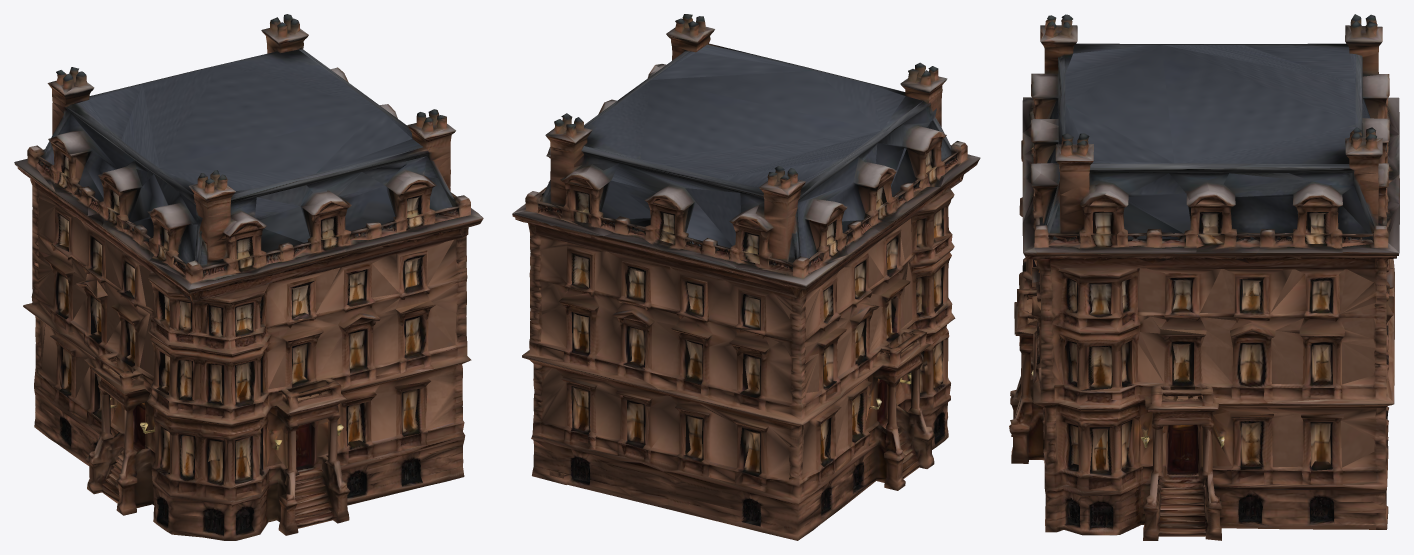
File: GildedAgeMansion_LOD3.fbx
The picture shows the model from 3 angles, left to right: view 1: azimuth 30°, elevation 25°; view 2: azimuth 150°, elevation 25°; view 3: azimuth 270°, elevation 25°; orthographic projection. The views are drawn at different scales.
Visible parts, largest first — view 1: GildedAgeMansion_LOD3; view 2: GildedAgeMansion_LOD3; view 3: GildedAgeMansion_LOD3.
Boxes of the visible parts, x1,y1,x2,y2 form: GildedAgeMansion_LOD3: [14, 14, 483, 540]; GildedAgeMansion_LOD3: [512, 14, 980, 540]; GildedAgeMansion_LOD3: [1009, 14, 1399, 540].
Size of the model in its own units: 1462 by 1598 by 1464.
